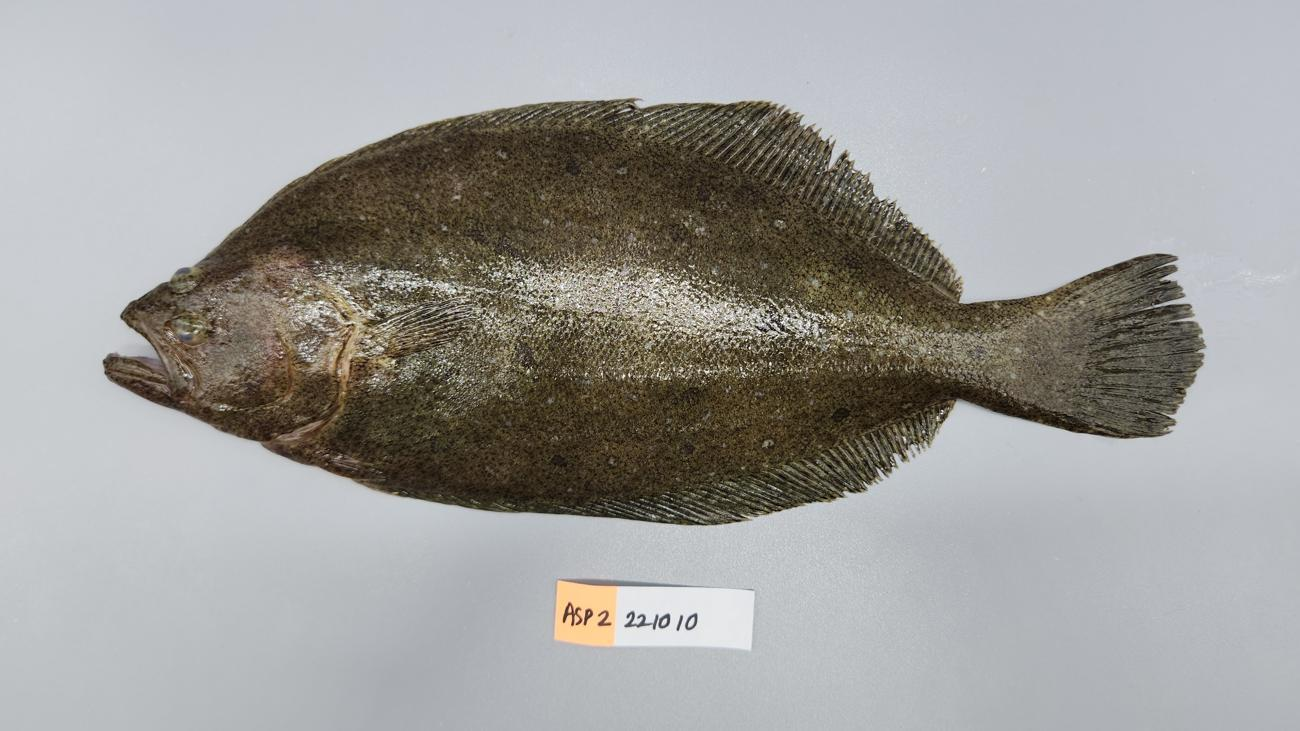SPOUY: (94, 89, 1212, 535)
